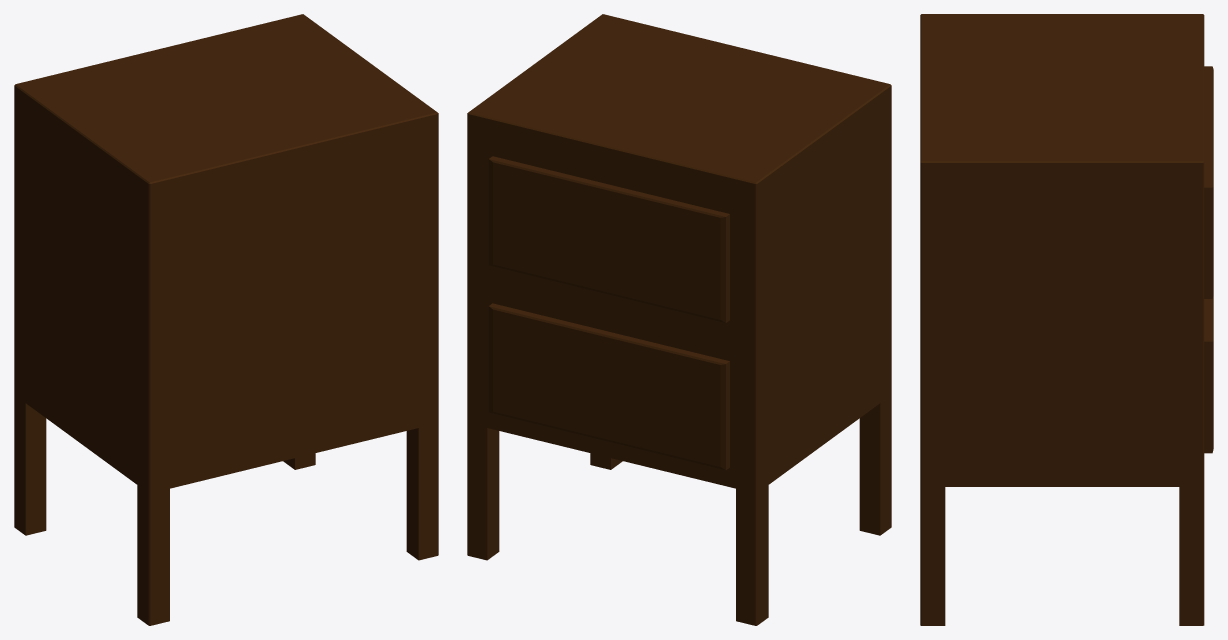
The model's file is Drawer.fbx.
3 views of the same model, side by side, from view 1: azimuth 30°, elevation 25°; view 2: azimuth 150°, elevation 25°; view 3: azimuth 270°, elevation 25° (orthographic). The views are drawn at different scales.
Parts seen in each view (by area): view 1: Stand_L; view 2: Stand_L; view 3: Stand_L.
Boxes of the visible parts, left/top/right/bottom form: Stand_L: left=14, top=14, right=438, bottom=625; Stand_L: left=467, top=14, right=891, bottom=625; Stand_L: left=920, top=14, right=1213, bottom=625.
Size of the model in its own units: 47.02 by 68.65 by 39.35.
